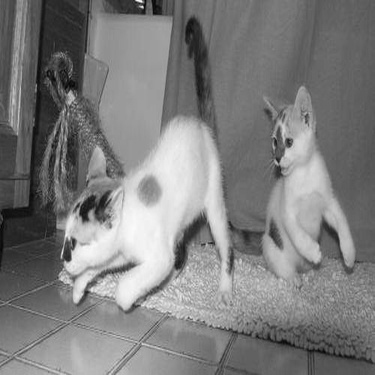cat: (57, 14, 235, 313), (257, 81, 356, 284)
